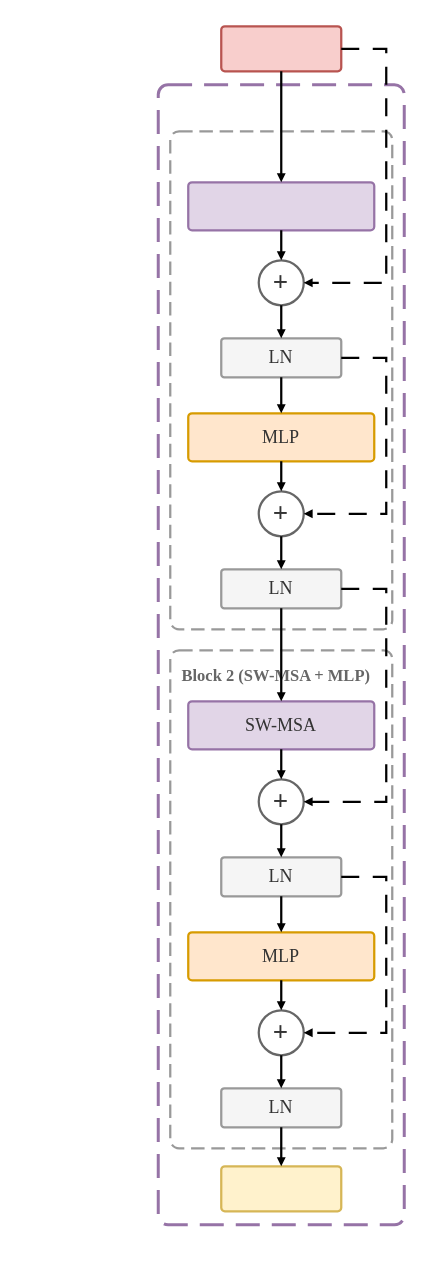
Image size: 437x1268. Some labels were removed from this diagram. Each missing label, with the box of its shape:
Block 1 (W-MSA + MLP): (168, 129, 393, 630)
Input: (219, 24, 342, 72)
Output: (219, 1164, 342, 1212)
Swin Blocks x2: (156, 82, 405, 1226)
W-MSA: (186, 180, 375, 231)
